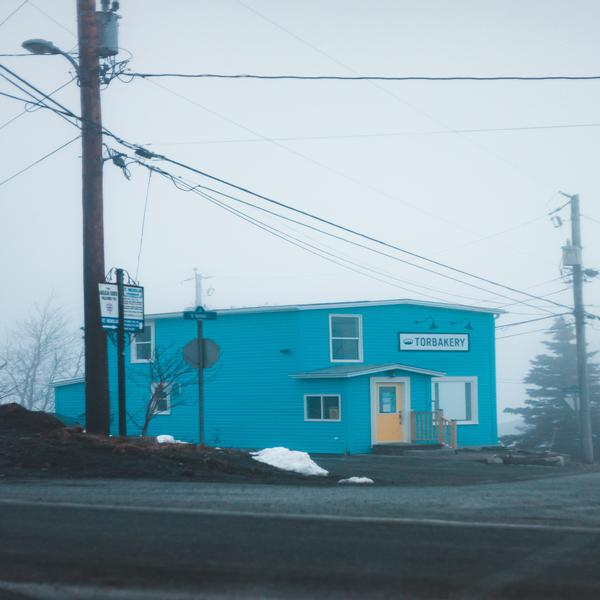utility_pole: (14, 1, 141, 119)
